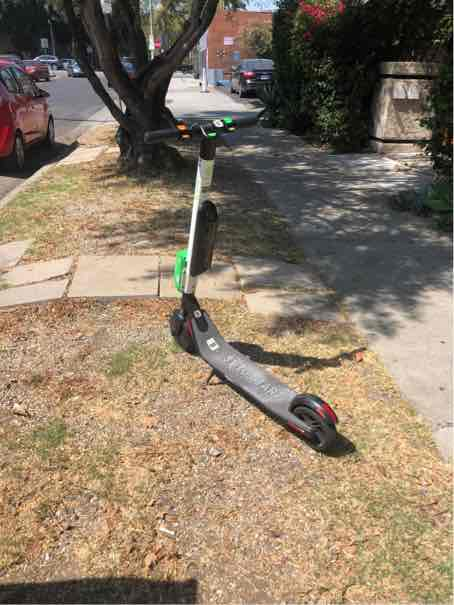scooter: (136, 112, 352, 459)
